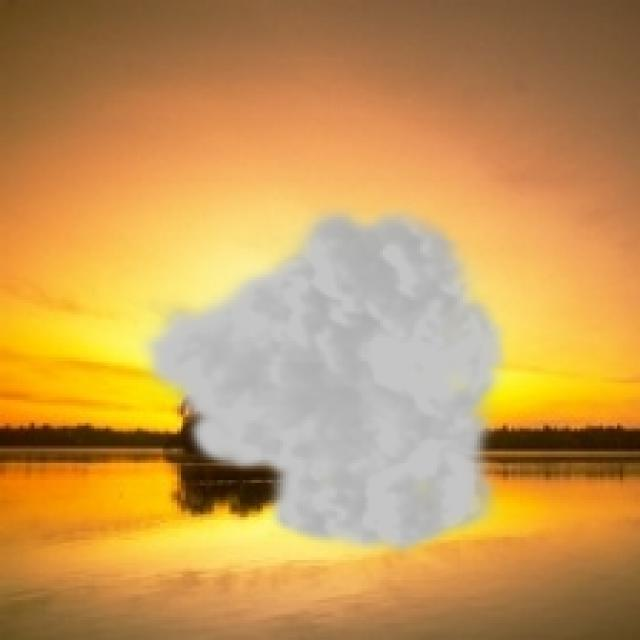Smoke: (134, 197, 512, 560)
